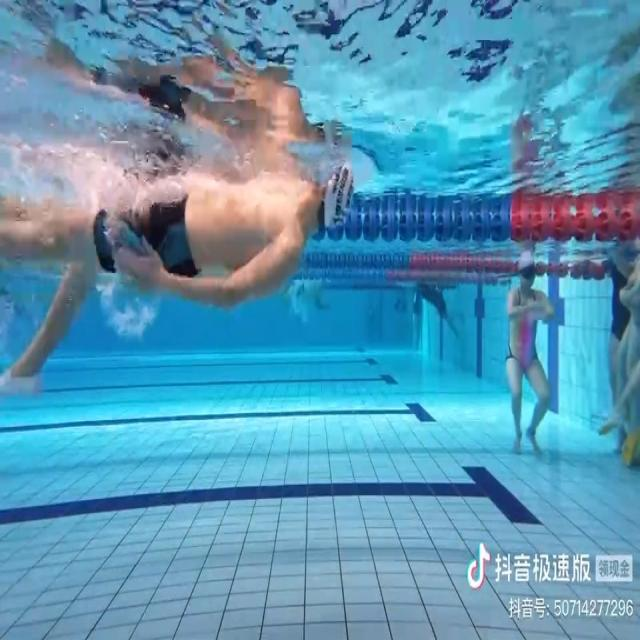Swimming: (2, 162, 354, 307), (506, 247, 558, 459)
